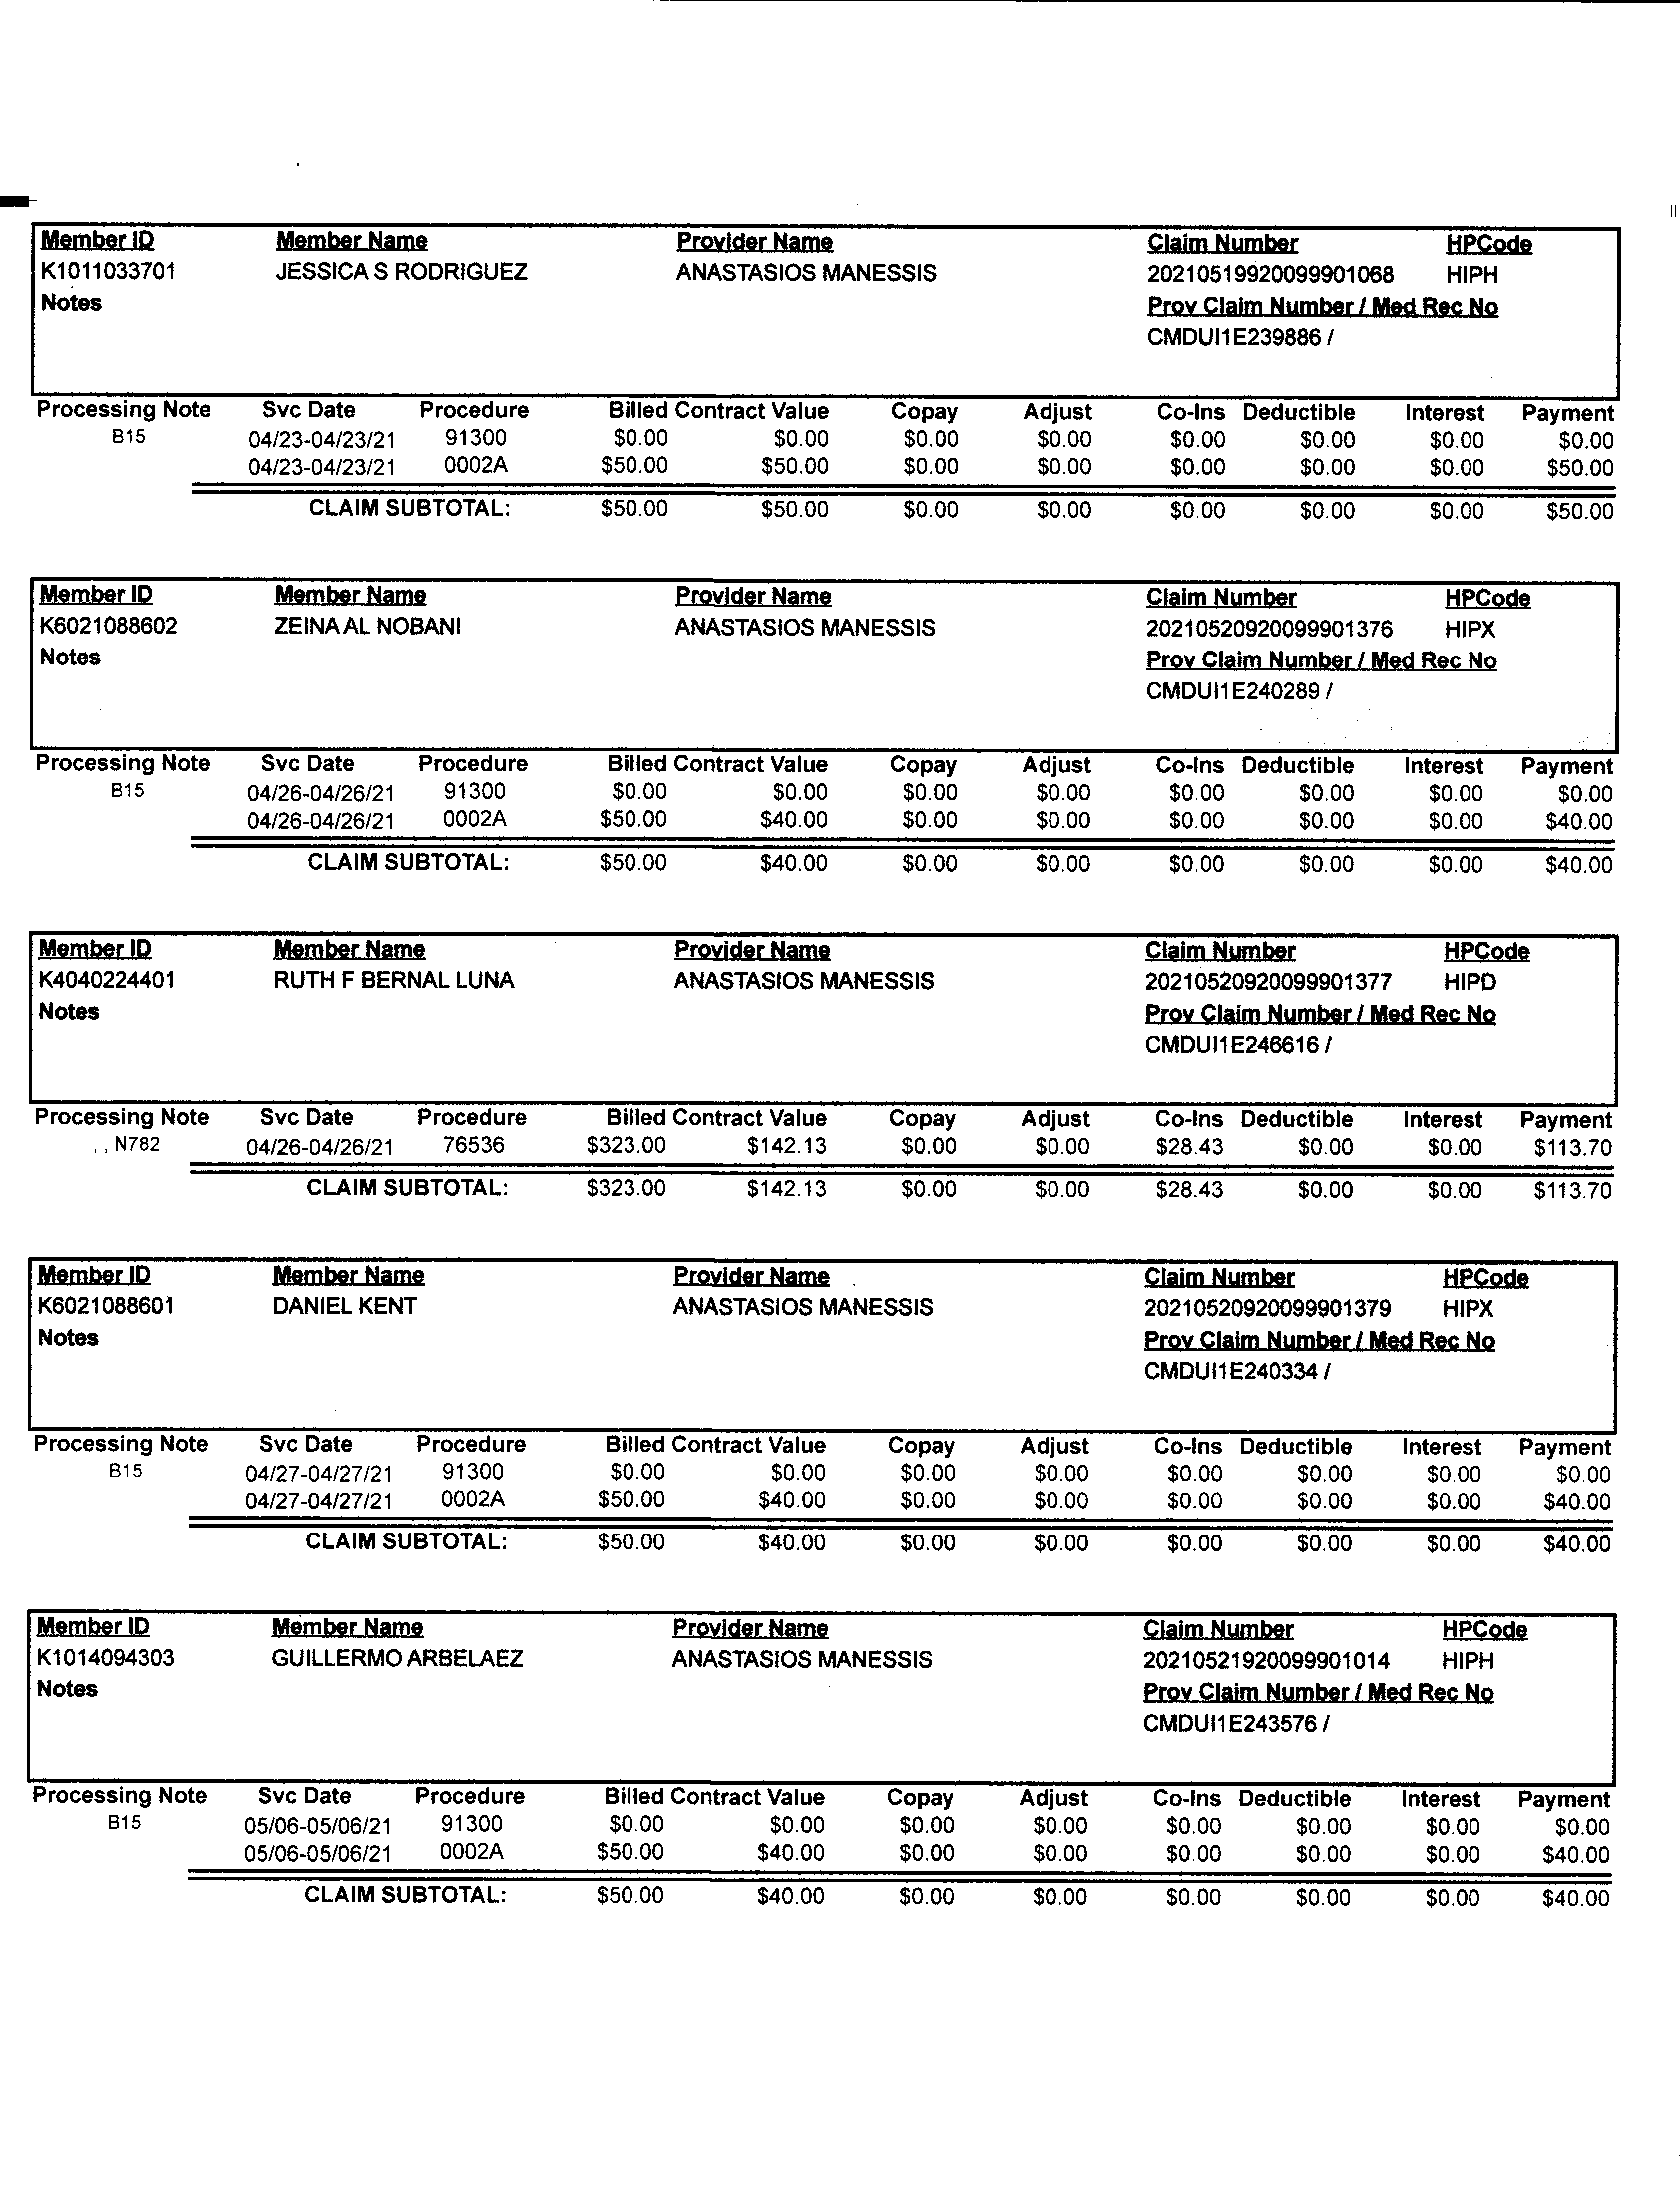data: (19, 196, 1629, 406), (19, 563, 1634, 764), (18, 1593, 1625, 1793), (19, 1244, 1629, 1438), (18, 926, 1629, 1119)
table: (12, 1780, 1636, 1928), (28, 386, 1641, 528), (25, 1429, 1634, 1563), (19, 748, 1629, 880), (28, 1101, 1632, 1214)
